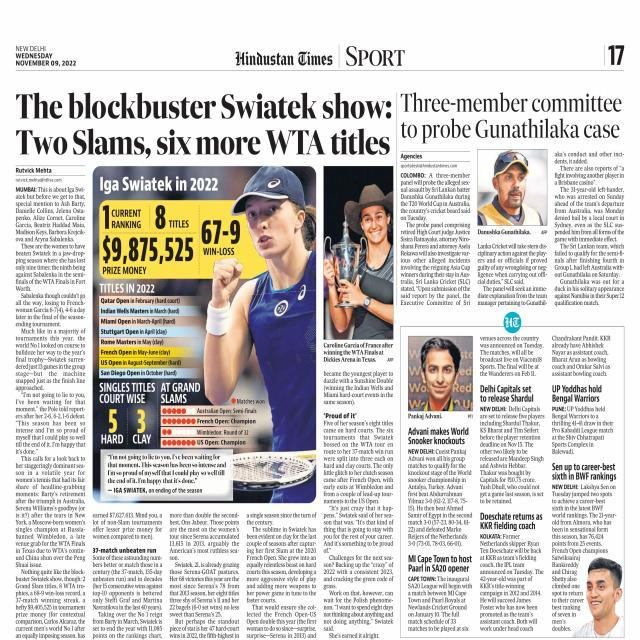Article: (10, 87, 396, 640), (396, 86, 630, 314), (406, 332, 476, 550), (550, 460, 625, 637), (477, 380, 547, 508), (477, 510, 547, 636), (405, 552, 474, 636), (548, 380, 620, 458)
Body: (14, 184, 87, 640), (322, 369, 394, 640), (553, 150, 628, 306), (398, 170, 471, 308), (245, 509, 318, 640), (92, 509, 164, 640), (168, 511, 240, 640), (406, 446, 474, 548), (478, 404, 546, 506), (478, 533, 546, 634), (551, 484, 617, 556), (476, 240, 549, 305), (407, 576, 472, 632), (552, 404, 616, 456), (480, 333, 545, 379), (550, 333, 613, 378), (552, 555, 584, 632)
Date: (14, 51, 78, 68)
Heading: (13, 90, 394, 162), (400, 90, 625, 140), (406, 554, 473, 574), (552, 462, 618, 482), (479, 512, 544, 532), (407, 426, 469, 446), (550, 382, 605, 403), (480, 382, 534, 402)
Highlights: (100, 282, 186, 379), (106, 452, 226, 496), (98, 176, 220, 194)
Image: (222, 164, 316, 394), (324, 166, 392, 340), (477, 148, 547, 227), (408, 334, 473, 412), (584, 557, 624, 640)
Name: (232, 48, 333, 67), (346, 43, 406, 68)
